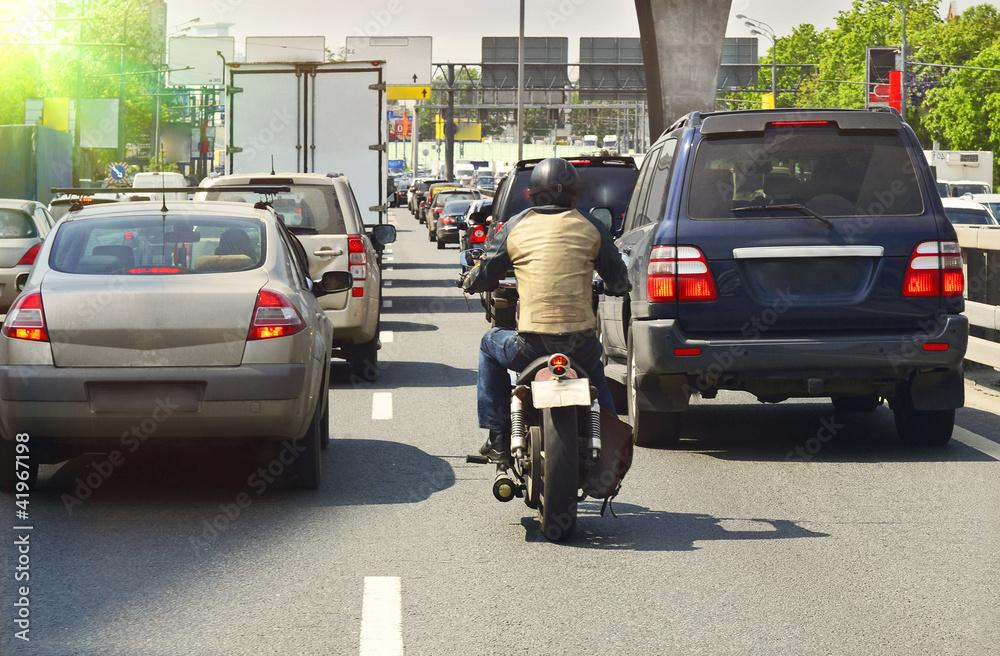helmet: (528, 157, 580, 211)
